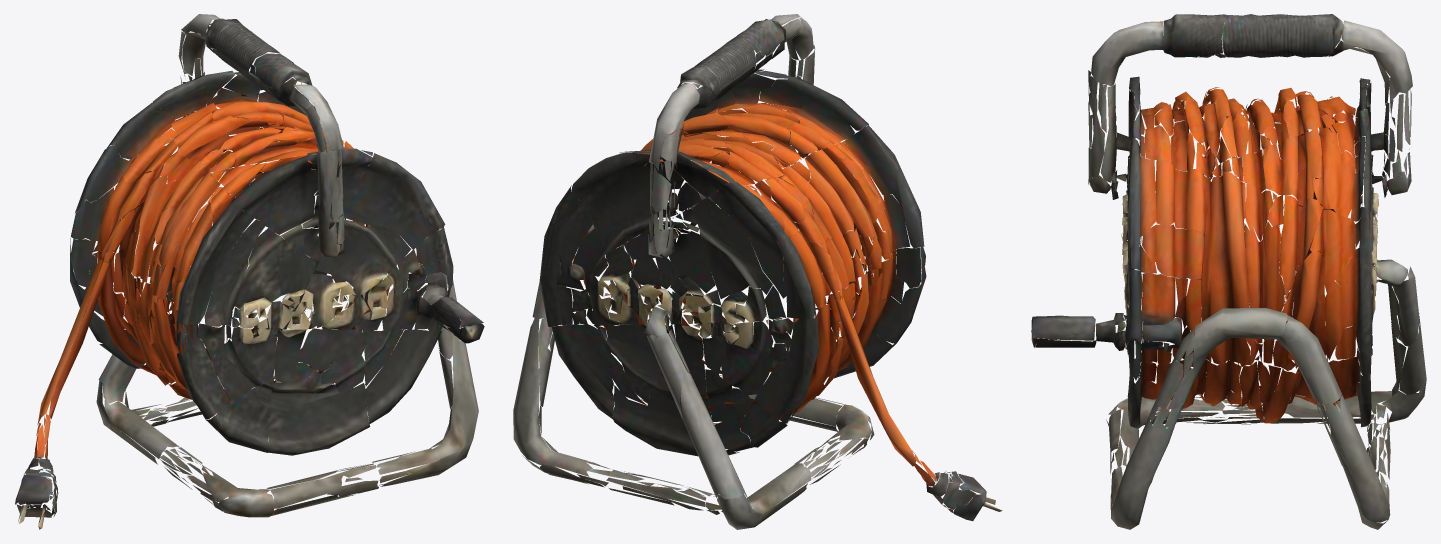
The model's file is cord_reel_prop.glb.
3 renders of one model, left to right at view 1: azimuth 30°, elevation 25°; view 2: azimuth 150°, elevation 25°; view 3: azimuth 270°, elevation 25°, orthographic. The views are drawn at different scales.
Parts seen in each view (by area): view 1: prop_cord_reel; view 2: prop_cord_reel; view 3: prop_cord_reel.
Boxes of the visible parts, x1,y1,x2,y2 form: prop_cord_reel: [15, 14, 484, 529]; prop_cord_reel: [513, 14, 1002, 529]; prop_cord_reel: [1031, 14, 1426, 529].
Bounding box in the file's own units: 0.9787 × 0.9313 × 0.7448.
Materials: 1 (1 with a texture image).
